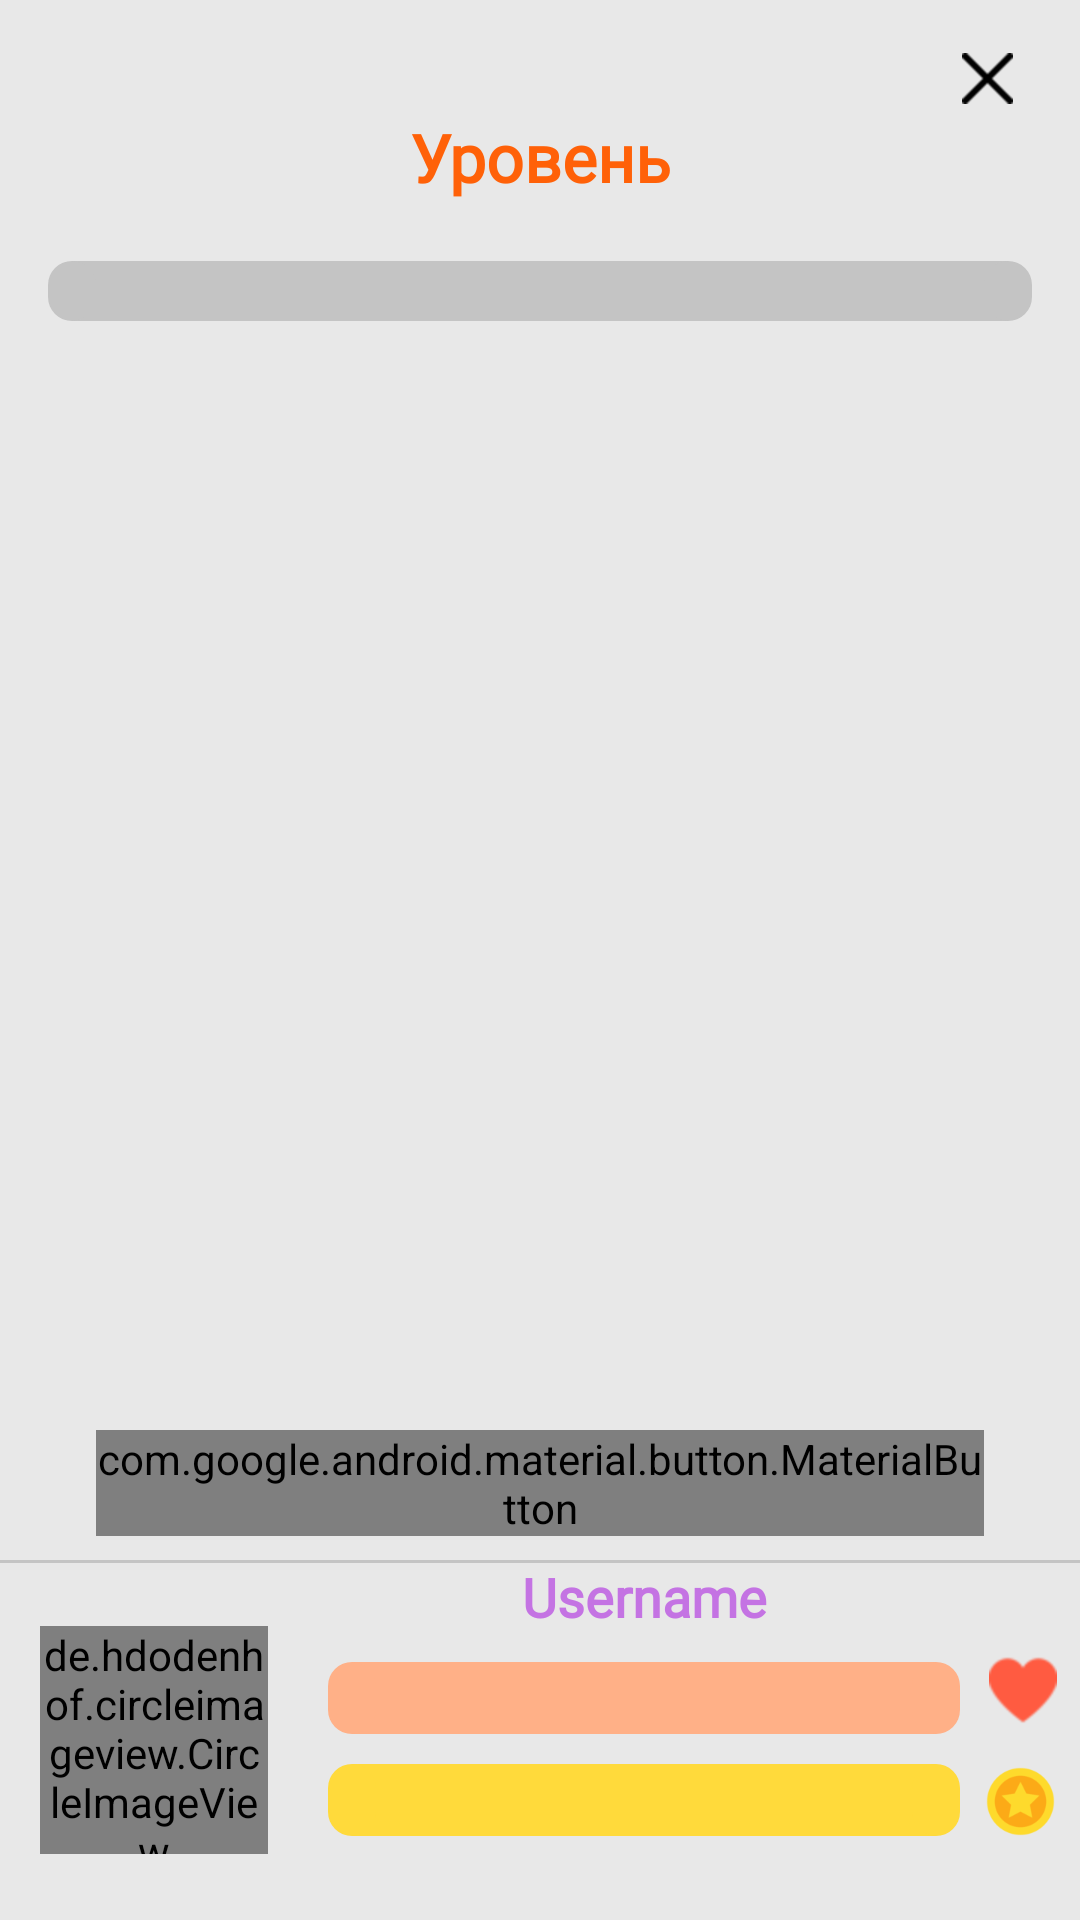

Where to tap for icons on this 1080 x 1920 app screen, as [x,y]:
close: [987,78]
coin: [1020,1801]
